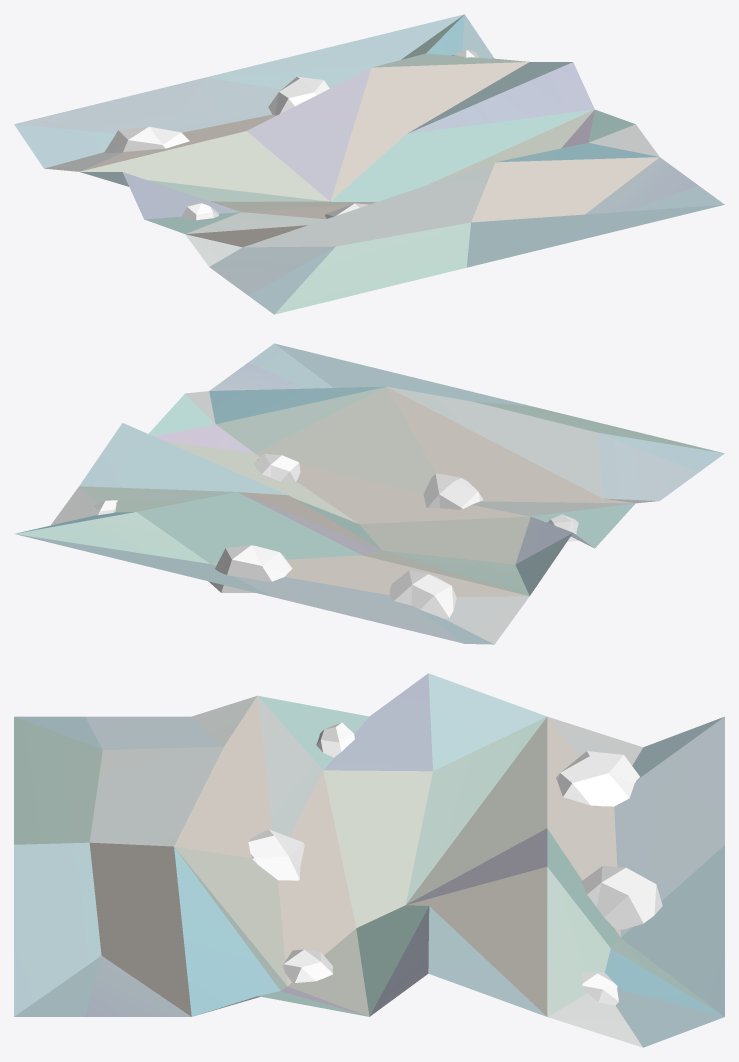
File: sm_ground_ice_5.fbx
3 views of the same model, one above another, from view 1: azimuth 30°, elevation 25°; view 2: azimuth 150°, elevation 25°; view 3: azimuth 270°, elevation 25° (orthographic). The views are drawn at different scales.
Visible parts, largest first — view 1: sm_ground_ice_5; view 2: sm_ground_ice_5; view 3: sm_ground_ice_5.
Part boxes in pixels (<box>): sm_ground_ice_5: <box>14,14,724,314</box>; sm_ground_ice_5: <box>14,343,724,644</box>; sm_ground_ice_5: <box>14,673,724,1047</box>.
Bounding box in the file's own units: 34.79 × 200 × 200.
